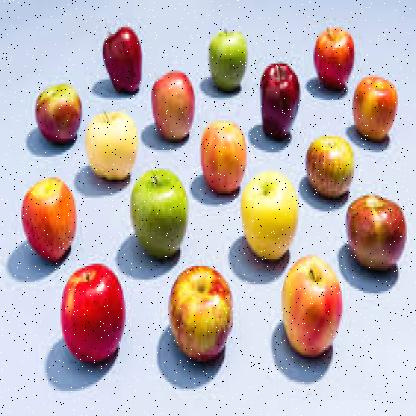apple: (61, 264, 127, 354), (282, 252, 341, 350), (171, 264, 231, 354), (130, 166, 189, 257), (344, 190, 408, 270), (240, 175, 296, 261), (19, 175, 78, 255), (304, 130, 356, 200), (84, 112, 136, 180), (30, 80, 82, 144), (200, 121, 246, 193), (258, 61, 300, 139), (352, 71, 396, 143), (202, 22, 249, 88), (310, 27, 358, 91), (100, 23, 142, 95), (150, 70, 193, 138)
